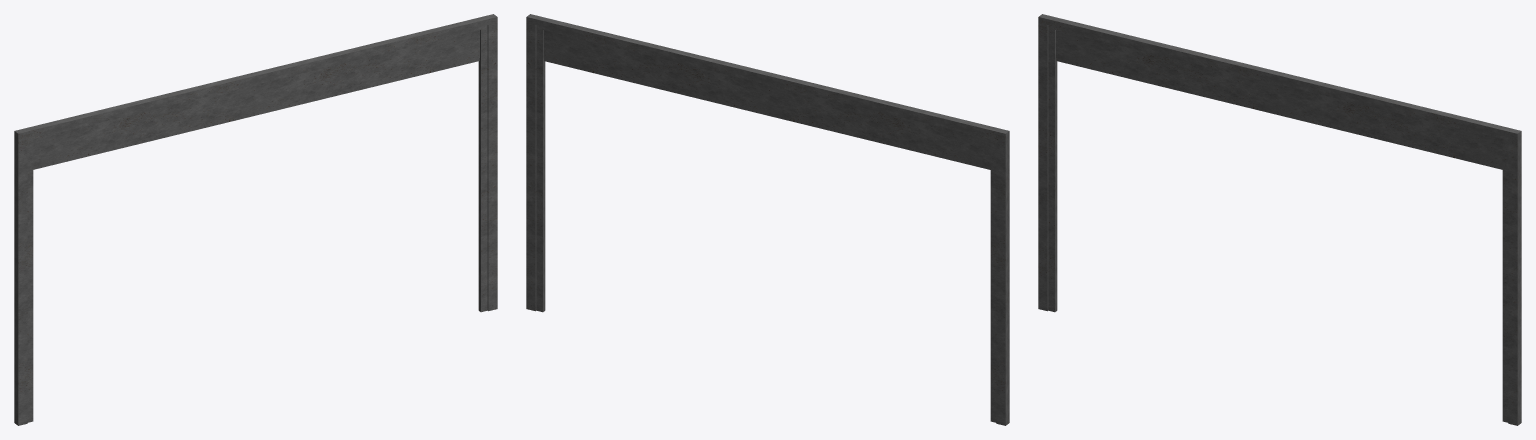
Rendered from garageDoor.glb.
3 renders of one model, left to right at view 1: azimuth 30°, elevation 25°; view 2: azimuth 150°, elevation 25°; view 3: azimuth 330°, elevation 25°, orthographic.
Visible parts, largest first — view 1: SHUTTER.FRAME, SHUTTER; view 2: SHUTTER.FRAME, SHUTTER; view 3: SHUTTER.FRAME, SHUTTER.
Part boxes in pixels (x1,y1,x2,y2): SHUTTER.FRAME: (14, 14, 497, 425); SHUTTER: (16, 15, 495, 170); SHUTTER.FRAME: (526, 14, 1009, 425); SHUTTER: (528, 15, 1007, 173); SHUTTER.FRAME: (1038, 14, 1521, 425); SHUTTER: (1040, 15, 1519, 169).
Size of the model in its own units: 14.38 by 8.38 by 0.2071.
2 materials, 2 textured.
